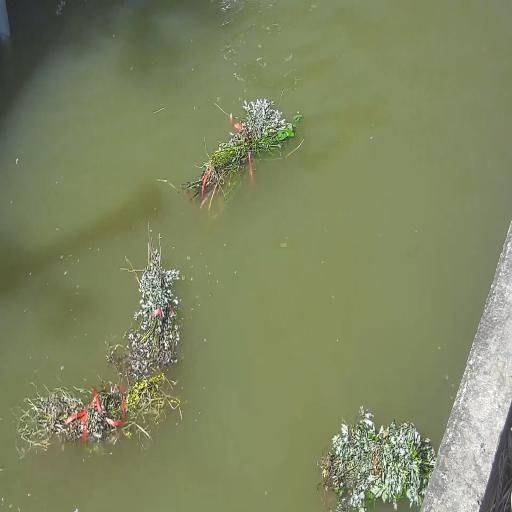twig: (176, 2, 307, 217), (107, 216, 191, 384), (15, 370, 181, 450), (320, 405, 436, 511)
